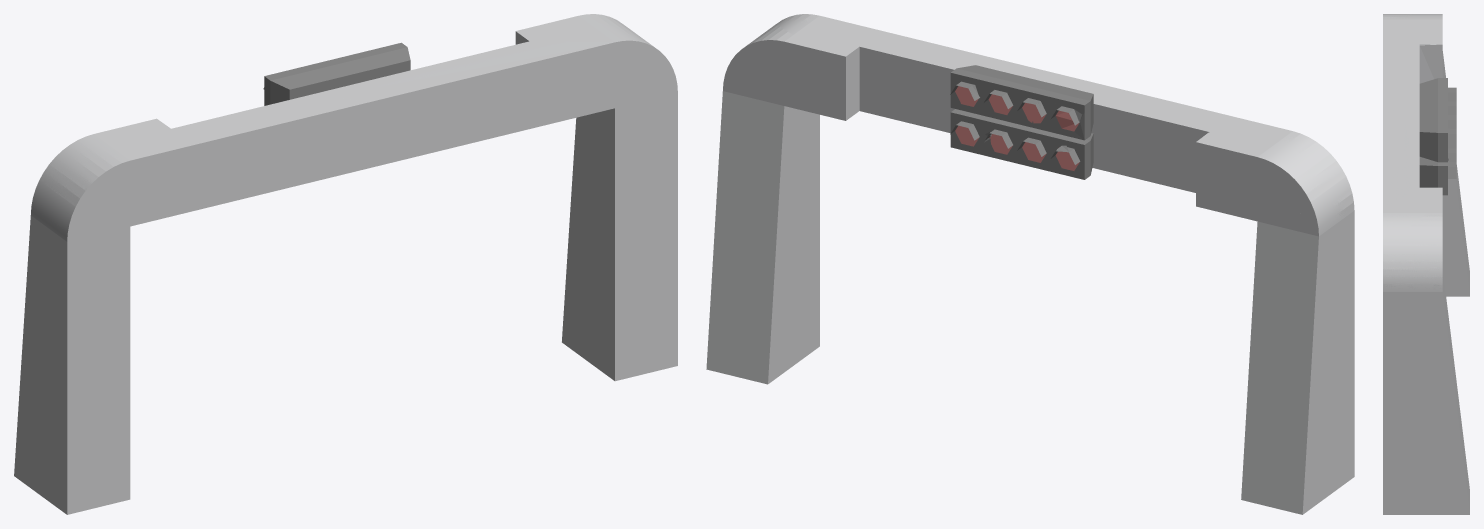
File: overheadLights.fbx
The picture shows the model from 3 angles, left to right: view 1: azimuth 30°, elevation 25°; view 2: azimuth 150°, elevation 25°; view 3: azimuth 270°, elevation 25°; orthographic projection. The views are drawn at different scales.
Parts seen in each view (by area): view 1: overheadLights, overheadLights_cell, overheadLights_cell.003, overheadLights_cell.002, overheadLights_cell.006, overheadLights_cell.005; view 2: overheadLights, overheadLights_cell, overheadLights_cell.002, overheadLights_cell.006, overheadLights_cell.003, overheadLights_cell.005, overheadLights_cell.008, overheadLights_cell.001, overheadLights_cell.007; view 3: overheadLights, overheadLights_cell, overheadLights_cell.003, overheadLights_cell.002, overheadLights_cell.005, overheadLights_cell.006, overheadLights_cell.007, overheadLights_cell.009, overheadLights_cell.001.
Boxes of the visible parts, box(x1,y1,x2,y2) form: overheadLights: box(14, 14, 677, 514); overheadLights_cell: box(562, 14, 677, 381); overheadLights_cell.003: box(22, 205, 130, 514); overheadLights_cell.002: box(172, 77, 339, 143); overheadLights_cell.006: box(41, 123, 189, 206); overheadLights_cell.005: box(374, 25, 637, 87); overheadLights: box(706, 16, 1354, 514); overheadLights_cell: box(714, 24, 991, 262); overheadLights_cell.002: box(1065, 86, 1229, 192); overheadLights_cell.006: box(1196, 117, 1345, 221); overheadLights_cell.003: box(1270, 188, 1354, 514); overheadLights_cell.005: box(779, 14, 997, 137); overheadLights_cell.008: box(991, 134, 1083, 179); overheadLights_cell.001: box(969, 75, 1033, 136); overheadLights_cell.007: box(1033, 91, 1085, 151); overheadLights: box(1383, 14, 1469, 514); overheadLights_cell: box(1383, 167, 1466, 514); overheadLights_cell.003: box(1442, 56, 1469, 296); overheadLights_cell.002: box(1388, 44, 1419, 107); overheadLights_cell.005: box(1383, 123, 1448, 243); overheadLights_cell.006: box(1383, 14, 1442, 83); overheadLights_cell.007: box(1411, 78, 1456, 105); overheadLights_cell.009: box(1405, 87, 1451, 107); overheadLights_cell.001: box(1415, 108, 1456, 159).
Size of the model in its own units: 126 by 69.39 by 19.
